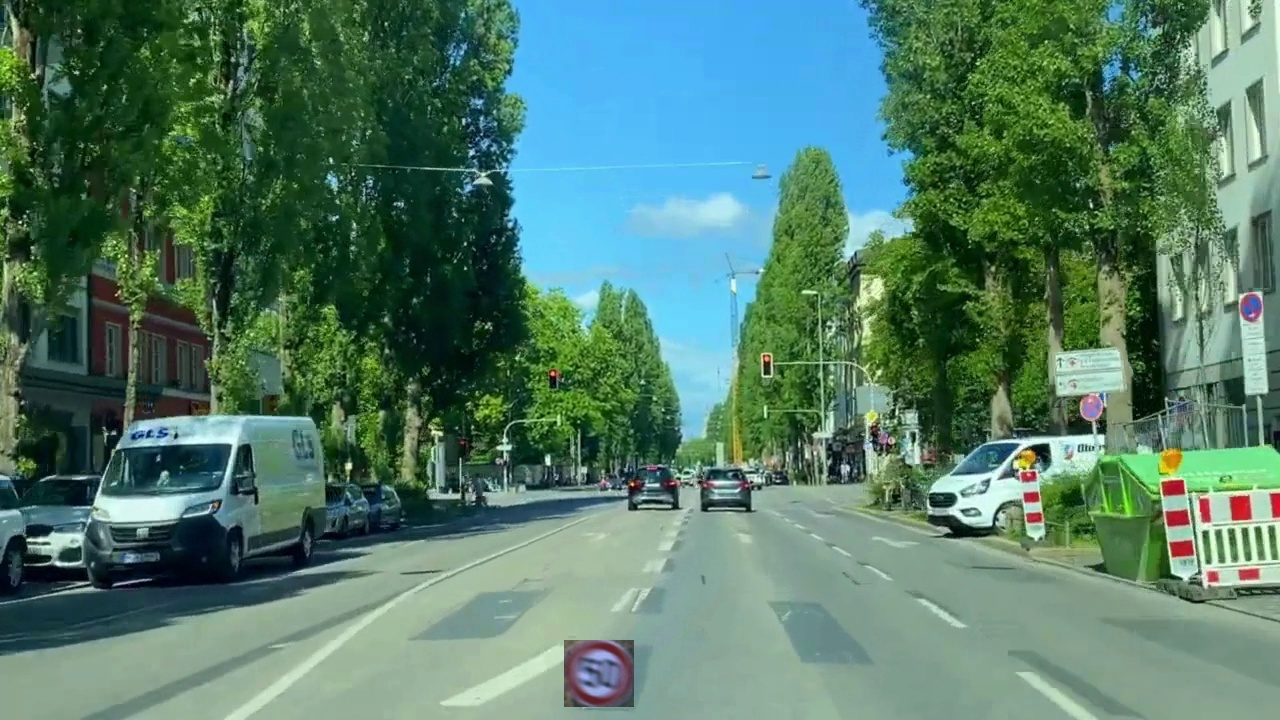Speed 50: (564, 640, 634, 707)
